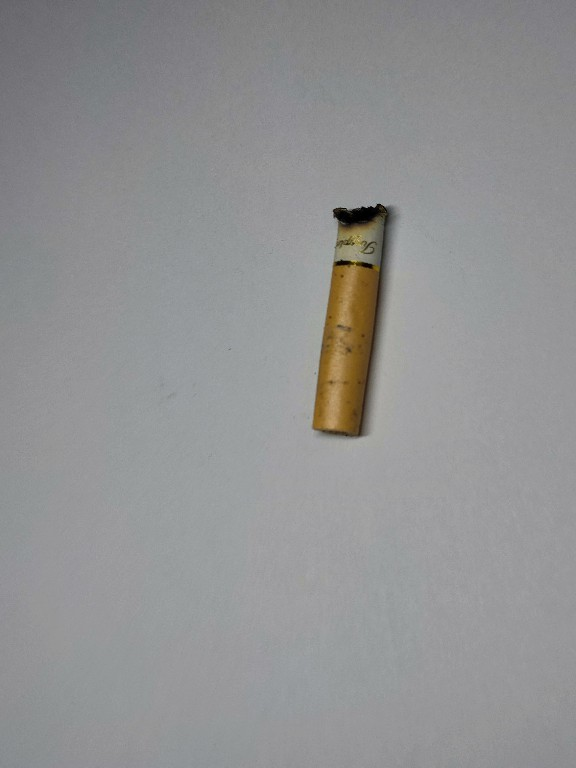cigarette: (299, 201, 397, 445)
